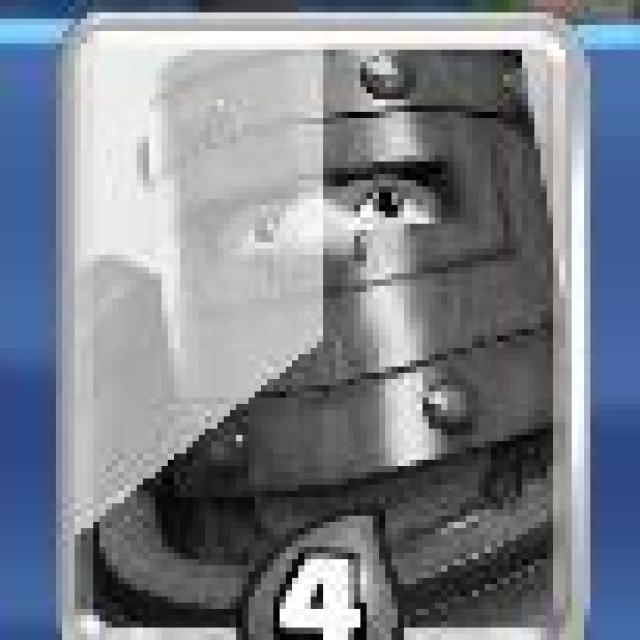Dark_Prince: (57, 15, 591, 640)
